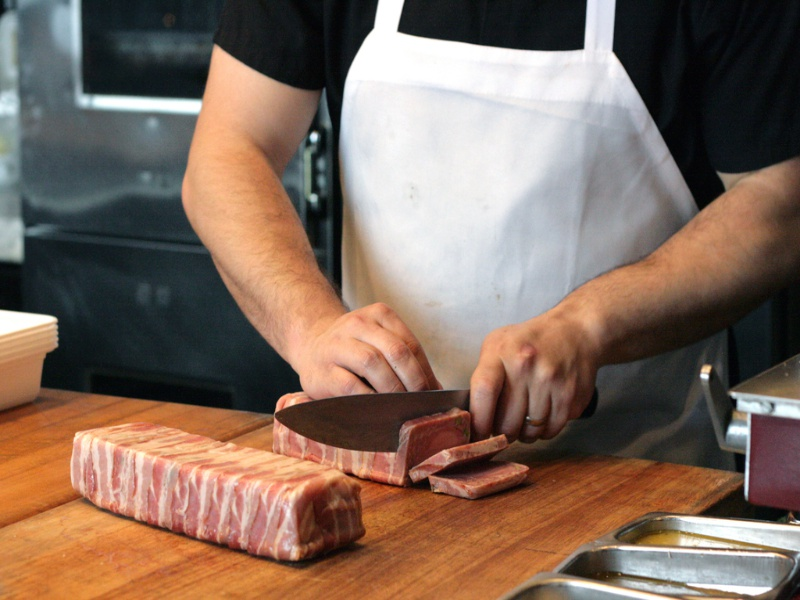knife: (272, 382, 614, 457)
